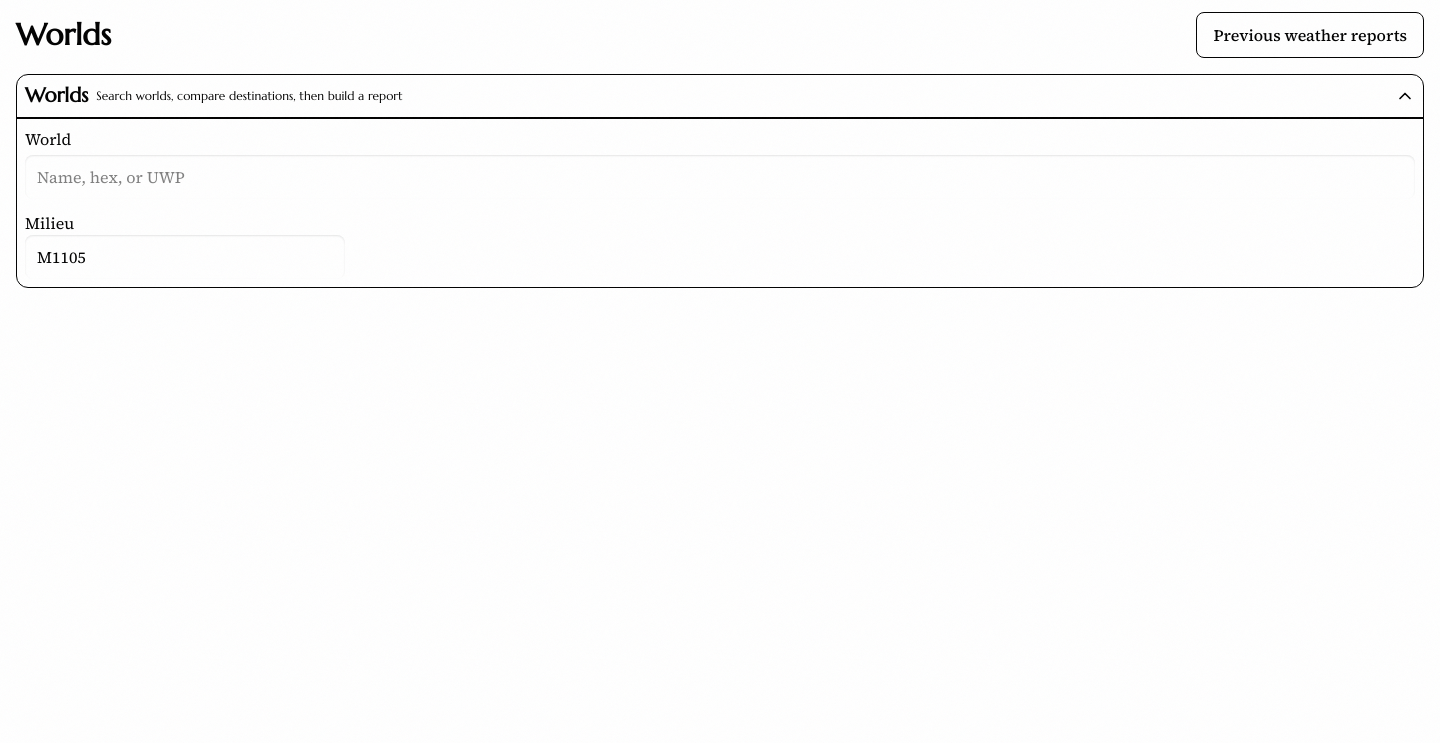
Scenario: Traveller briefing session log action › adds the selected world with sector, hex, and UWP to the route
Type "Zila" into the dropdown labelled "World" at x=720, y=177, box [25,155,1415,199]
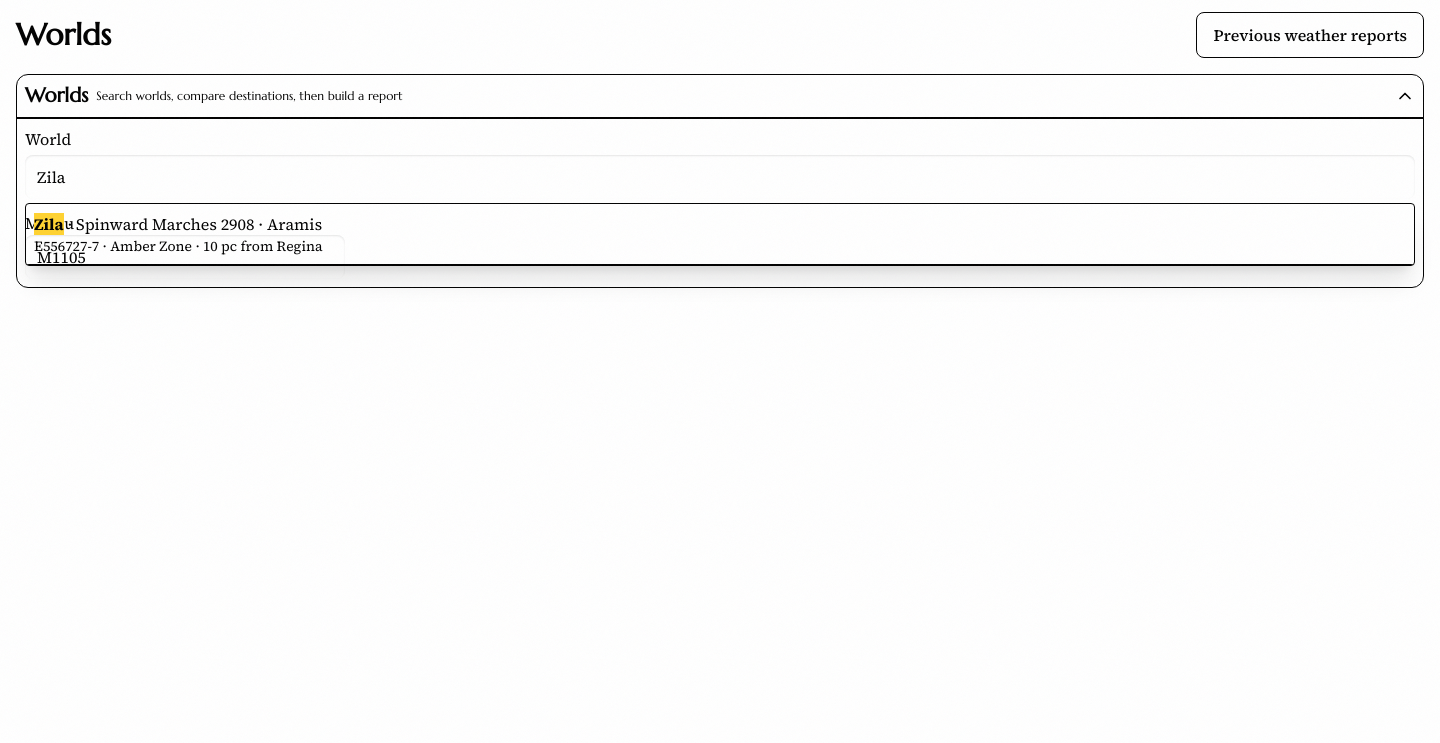
Click the button that starts with "Zila" at x=146, y=224, box [26,204,1414,265]
(page scrolled)
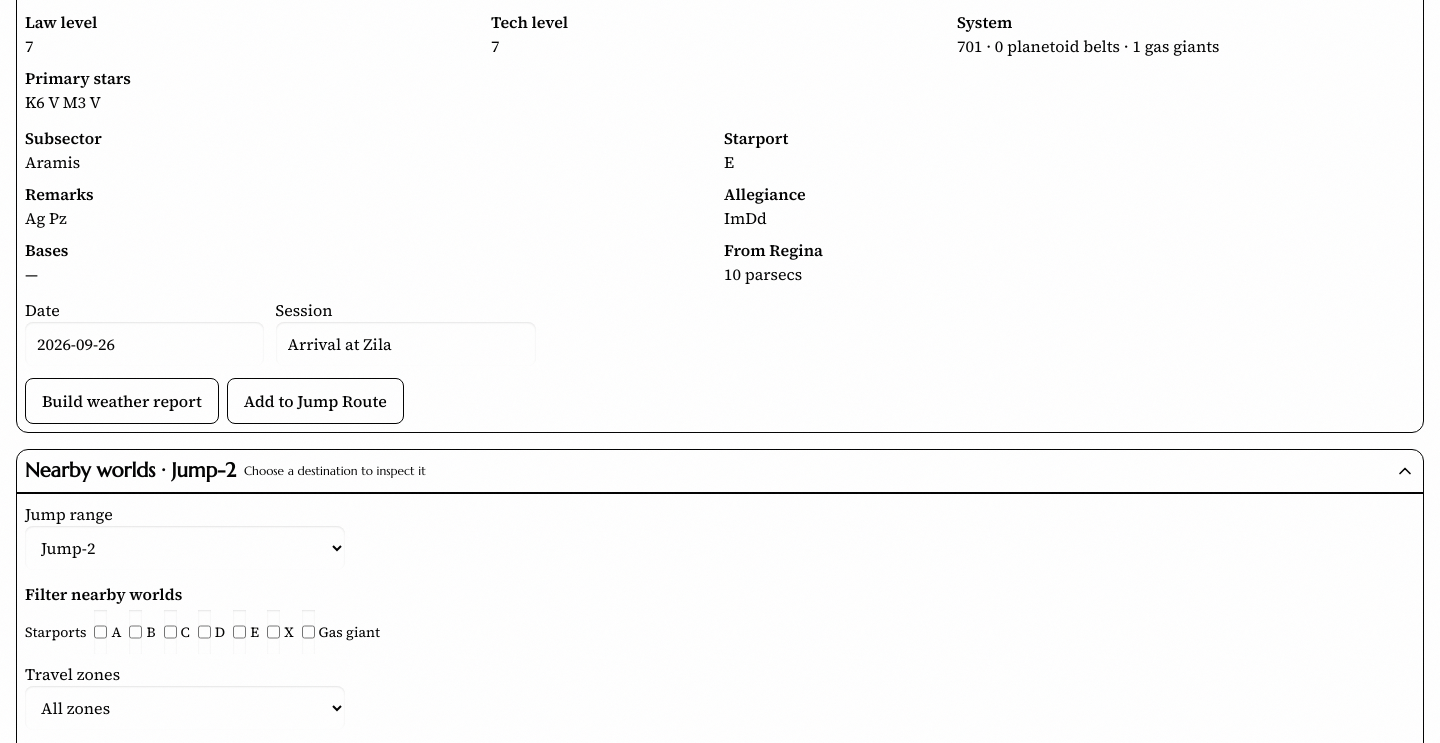
Check: the button "Build weather report" is shown, box [25,378,219,424]
Click the button "Add to Jump Route" at x=315, y=401, box [227,378,404,424]
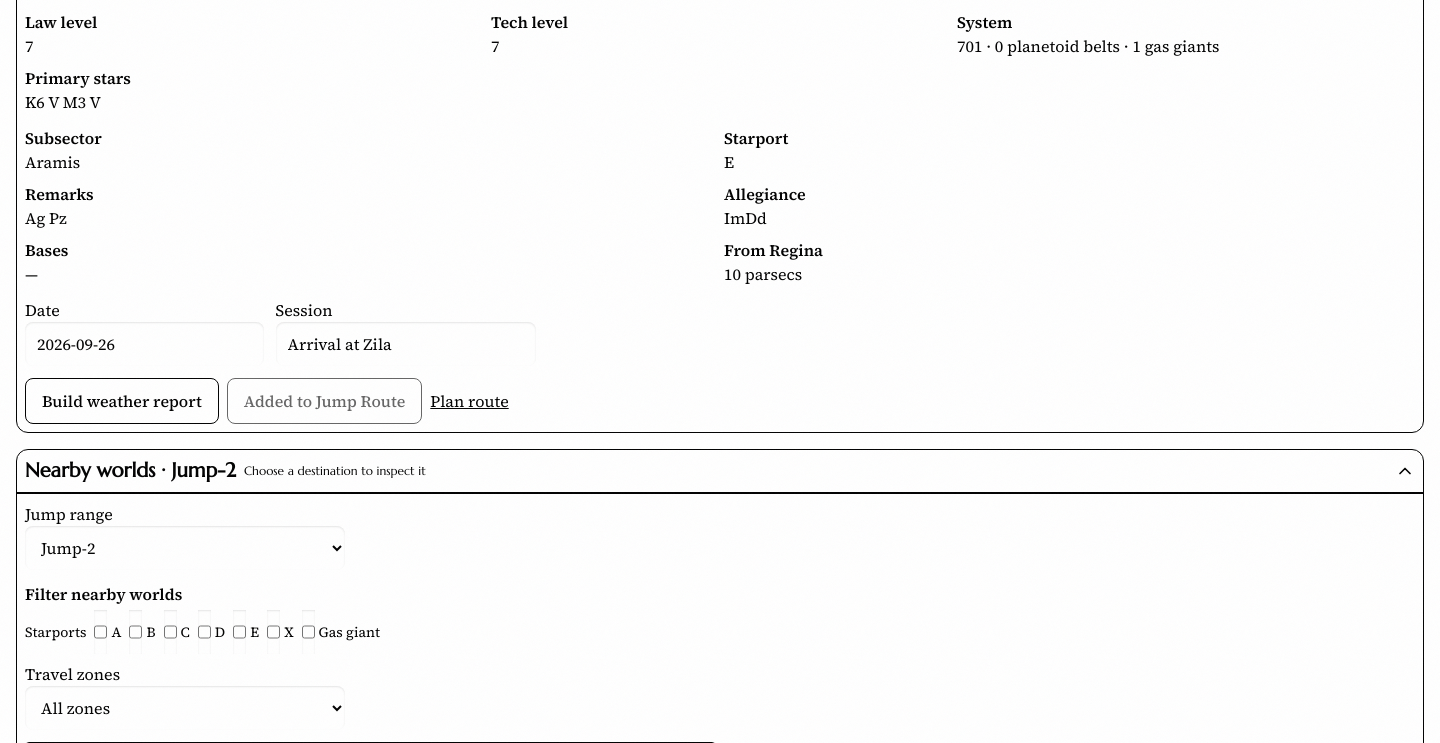
Check: the link "Plan route" is shown, box [430,389,509,413]
